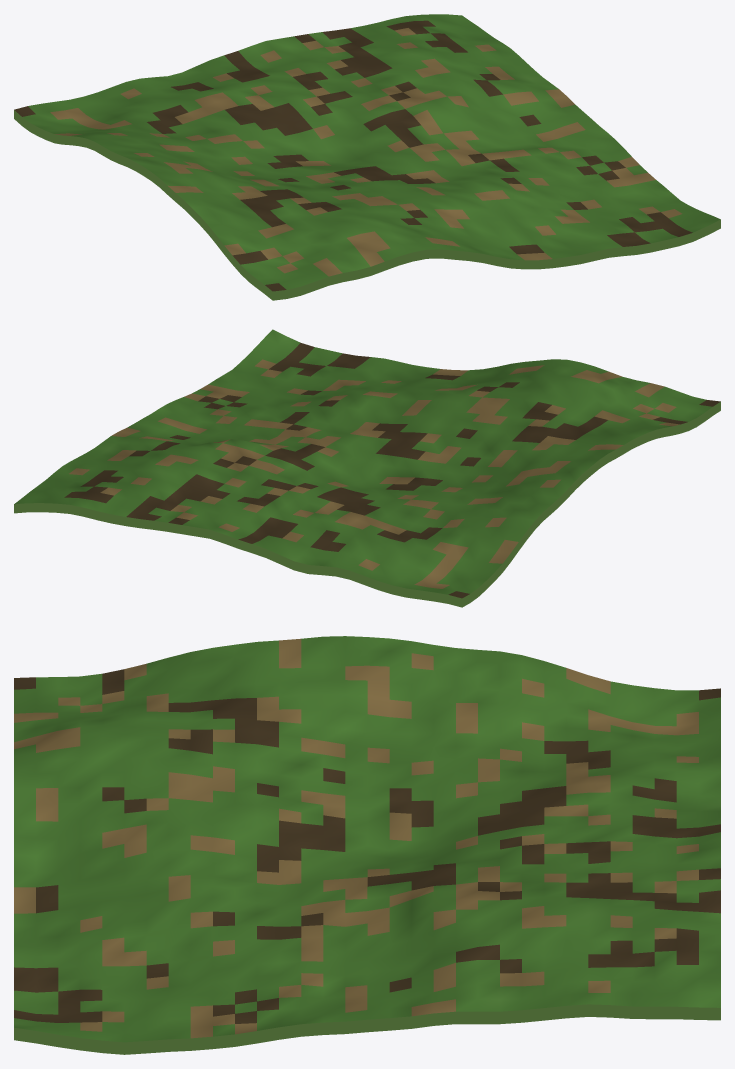
File: chunk_0_4_lod1.glb
The picture shows the model from 3 angles, top to bottom: view 1: azimuth 30°, elevation 25°; view 2: azimuth 150°, elevation 25°; view 3: azimuth 270°, elevation 25°; orthographic projection. The views are drawn at different scales.
Visible parts, largest first — view 1: Surface_Grass, Surface_Dirt, Surface_Mud, Skirt; view 2: Surface_Grass, Surface_Dirt, Surface_Mud, Skirt; view 3: Surface_Grass, Surface_Dirt, Surface_Mud, Skirt.
Boxes of the visible parts, bbox=[...] form: Surface_Grass: bbox=[22, 14, 720, 289]; Surface_Dirt: bbox=[50, 28, 682, 276]; Surface_Mud: bbox=[14, 20, 692, 291]; Skirt: bbox=[14, 110, 720, 300]; Surface_Grass: bbox=[14, 329, 712, 594]; Surface_Dirt: bbox=[69, 359, 679, 588]; Surface_Mud: bbox=[64, 343, 720, 598]; Skirt: bbox=[14, 401, 720, 607]; Surface_Grass: bbox=[14, 636, 720, 1042]; Surface_Dirt: bbox=[14, 638, 698, 1038]; Surface_Mud: bbox=[14, 669, 720, 1023]; Skirt: bbox=[14, 1004, 720, 1054].
Size of the model in its own units: 256 by 47.93 by 256.
